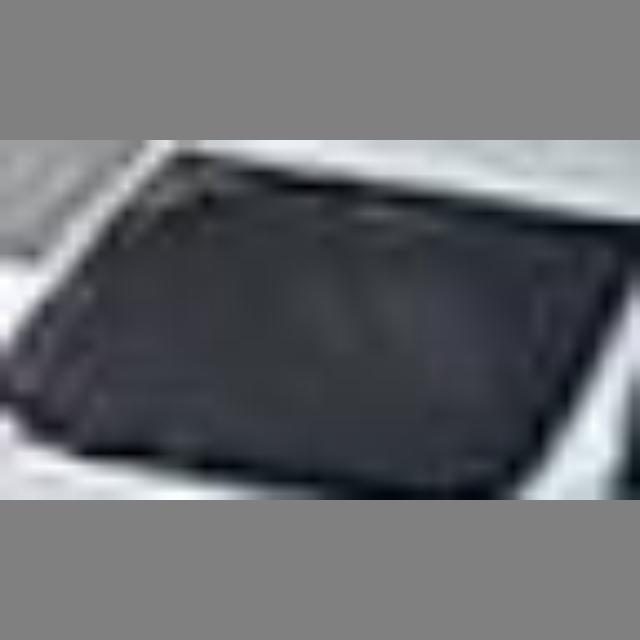pakai: (240, 207, 493, 420)
